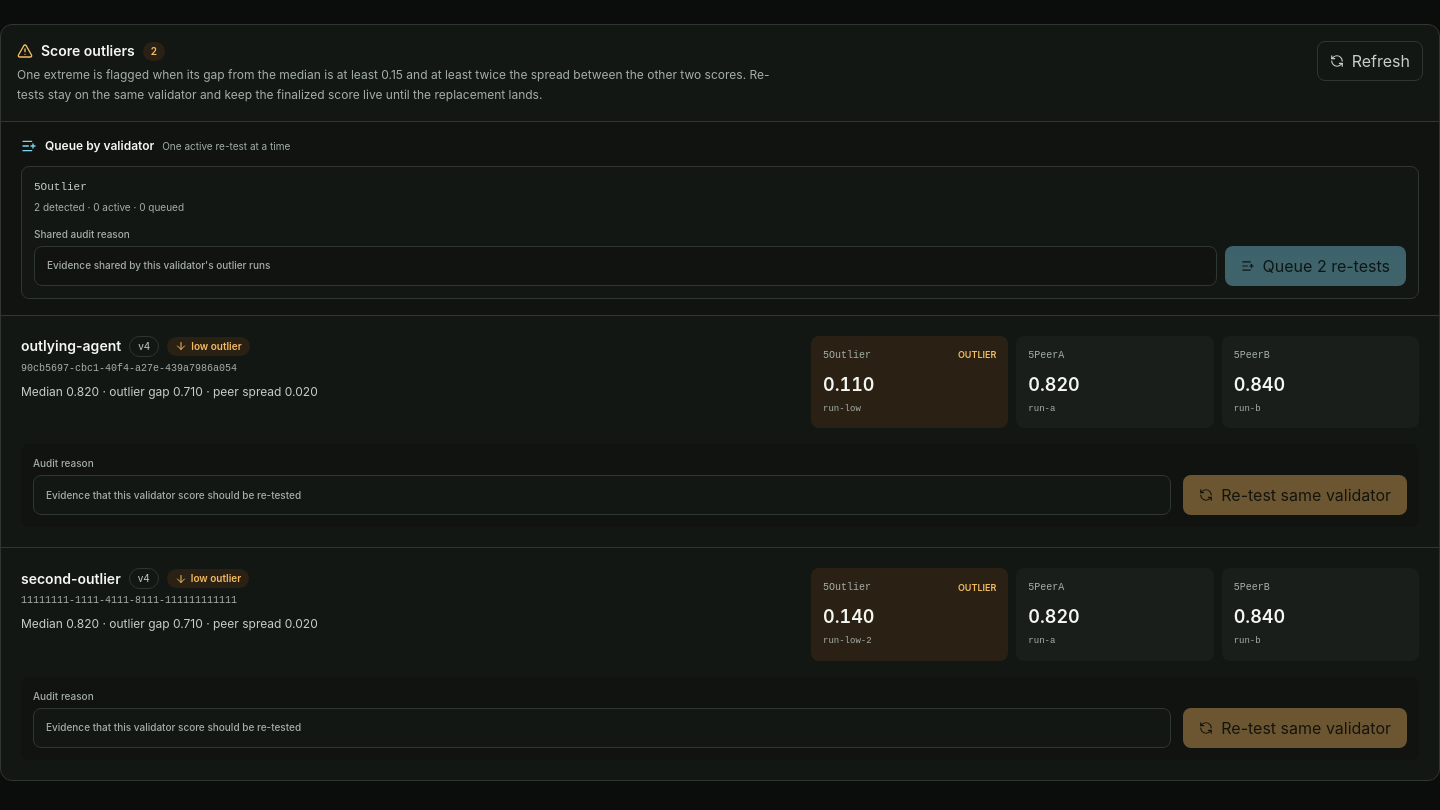
it: ScoreOutlierPanel › queues every eligible outlier for one validator with one shared reason
The width and height of the screenshot is (1440, 810).
Expected: the button "Queue 2 re-tests" is disabled, x1=1225 y1=246 x2=1406 y2=286
Type "The shared validator relay failed across this run window" into the field with placeholder "Evidence shared by this validator's outlier runs" at (625, 266), box x1=34 y1=246 x2=1217 y2=286
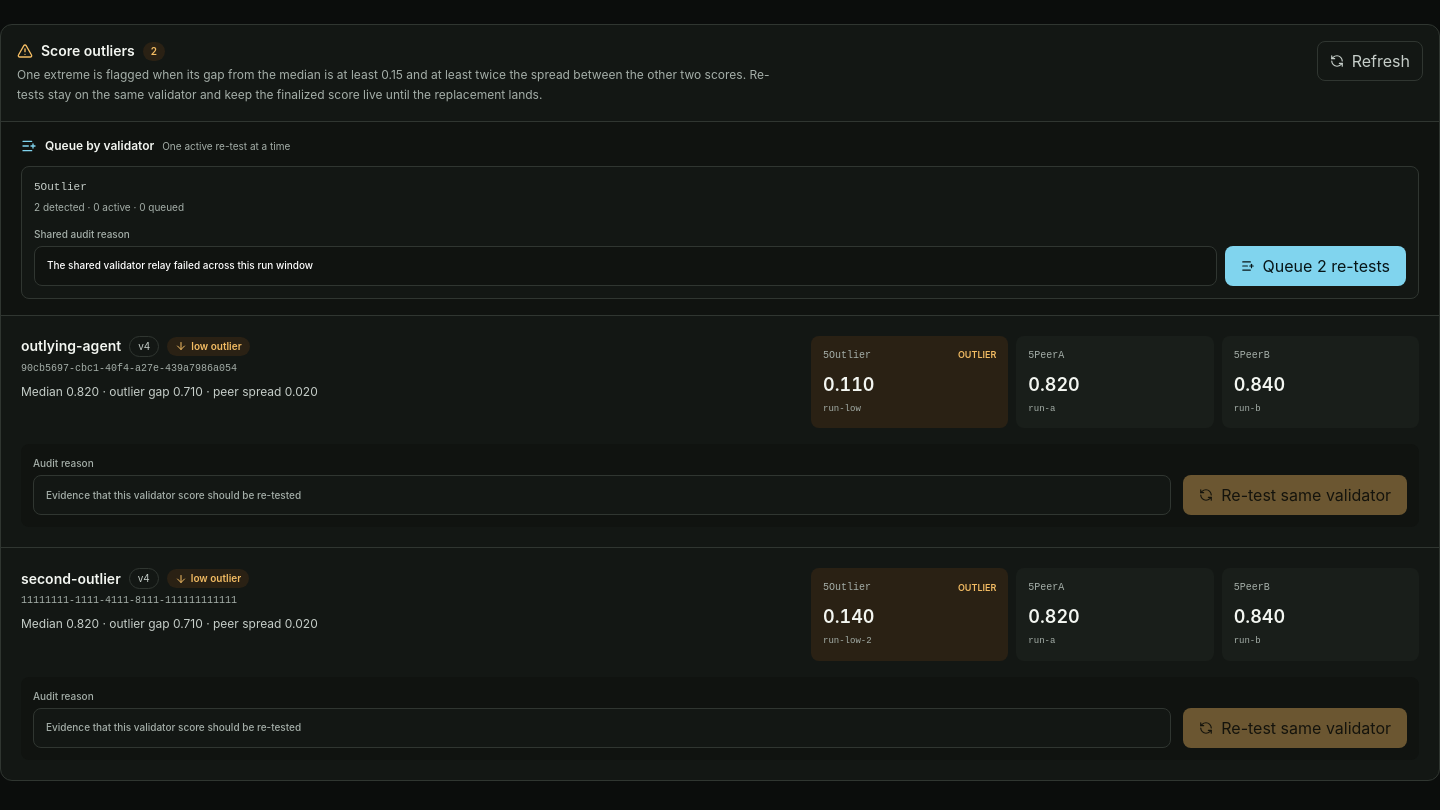
Click the button "Queue 2 re-tests" at (1315, 266), box x1=1225 y1=246 x2=1406 y2=286
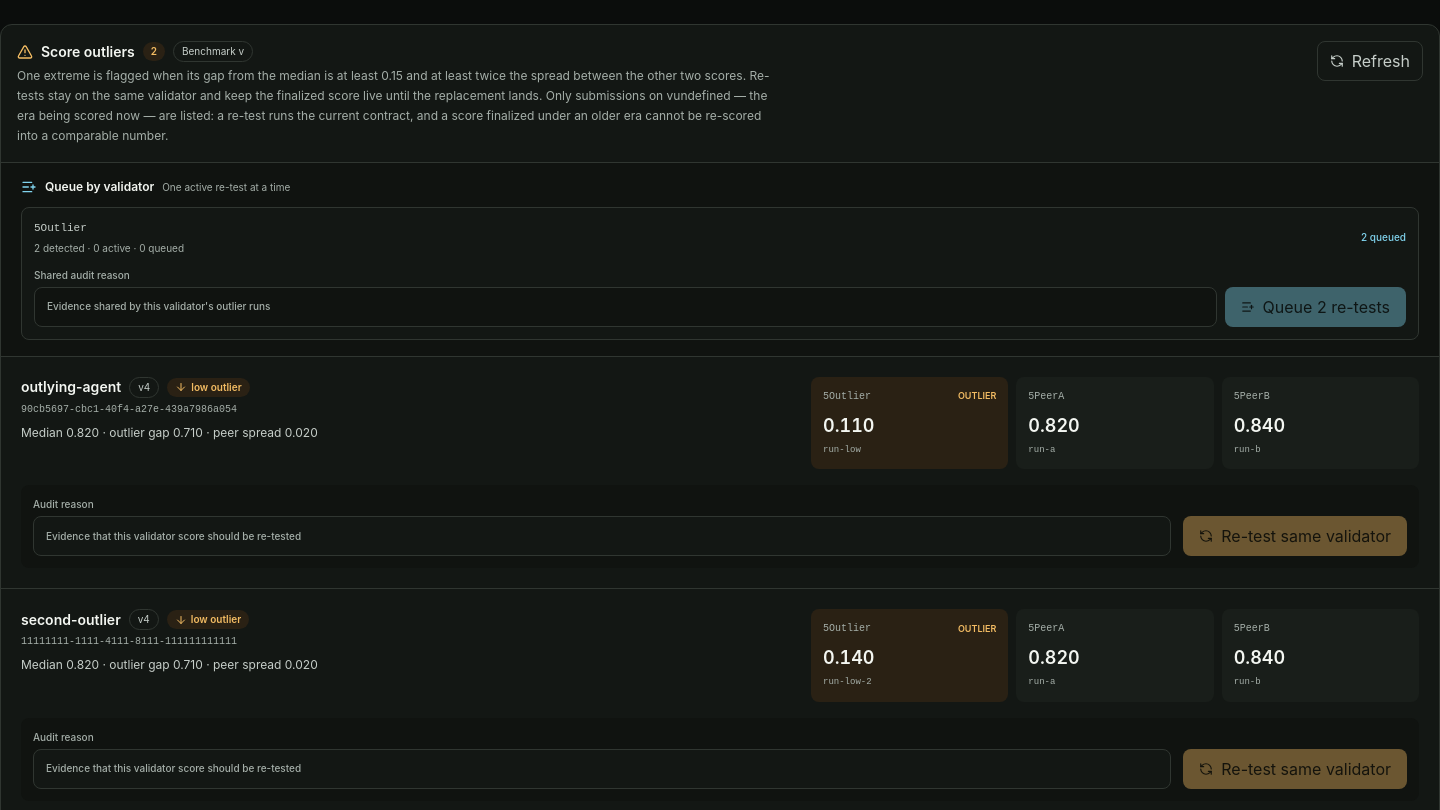
Expected: the text "2 queued" is shown, x1=1361 y1=230 x2=1406 y2=245
